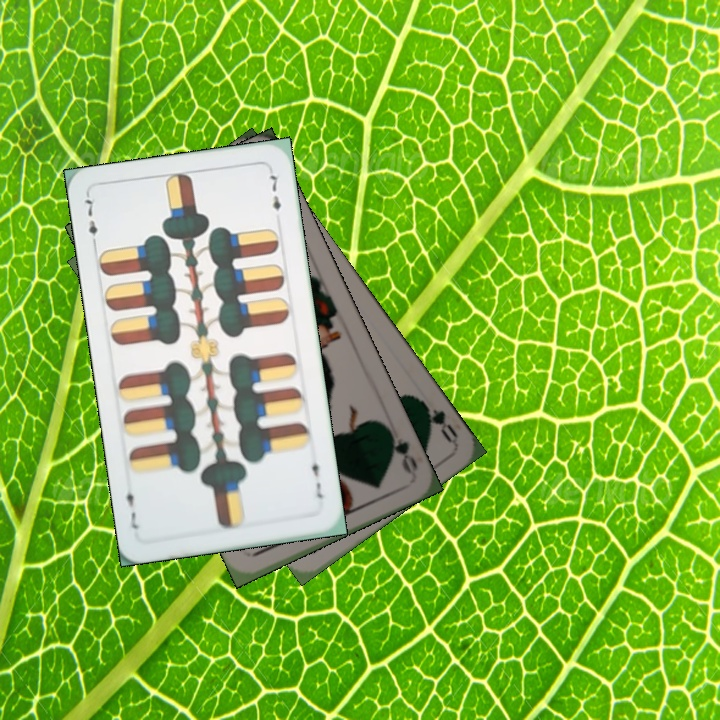E7: (81, 191, 101, 251), (307, 452, 326, 502)
GO: (415, 395, 461, 446), (381, 422, 421, 477)
